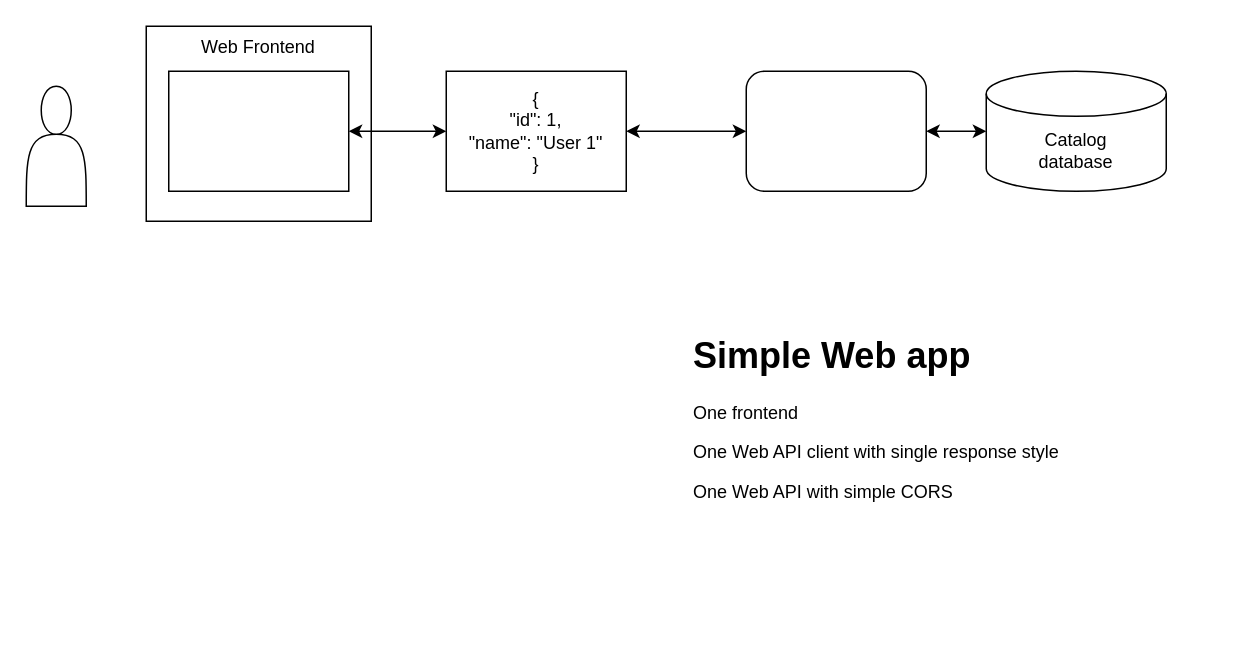
This 1238x653 diagram has some shape labels left out. The shapes that lost their labels are listed below. From the top down, each one's centre as x and y in pixels, then its label:
At (258,130): "Catalog client request/response transformations".
At (835,130): "Catalog Web API".
